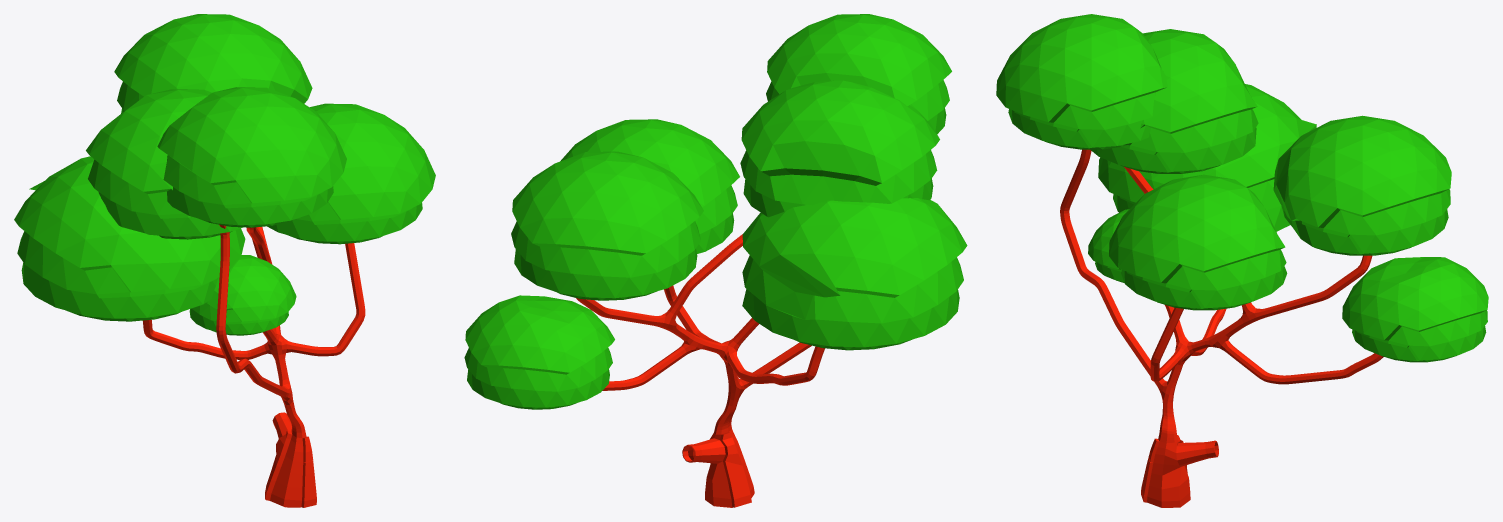
File: Arbre 1.dae
The picture shows the model from 3 angles, left to right: view 1: azimuth 30°, elevation 25°; view 2: azimuth 150°, elevation 25°; view 3: azimuth 270°, elevation 25°; orthographic projection. The views are drawn at different scales.
Parts seen in each view (by area): view 1: Icosphere, Cube.002_Cube.001; view 2: Icosphere, Cube.002_Cube.001; view 3: Icosphere, Cube.002_Cube.001.
Part boxes in pixels (x1,y1,x2,y2): Icosphere: (14,14,435,335); Cube.002_Cube.001: (143,224,365,507); Icosphere: (464,14,967,409); Cube.002_Cube.001: (576,234,824,507); Icosphere: (996,14,1488,362); Cube.002_Cube.001: (1060,149,1383,507).
Bounding box in the file's own units: 8.08 × 9.31 × 9.48.
